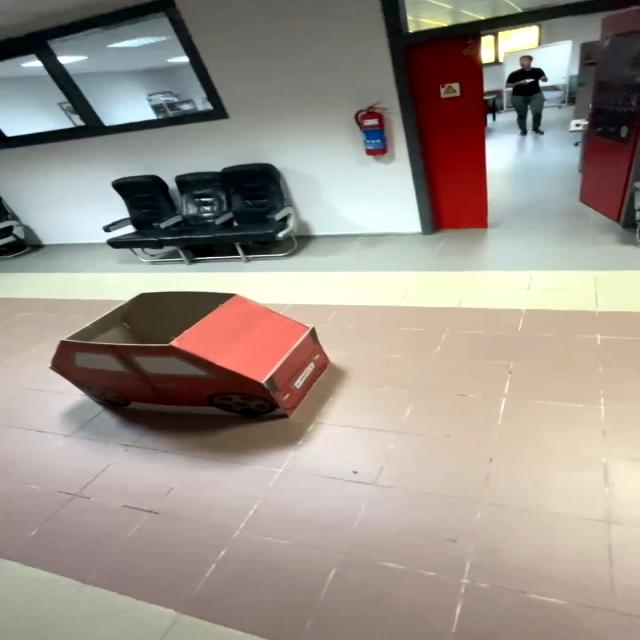red_car: (32, 278, 368, 446)
